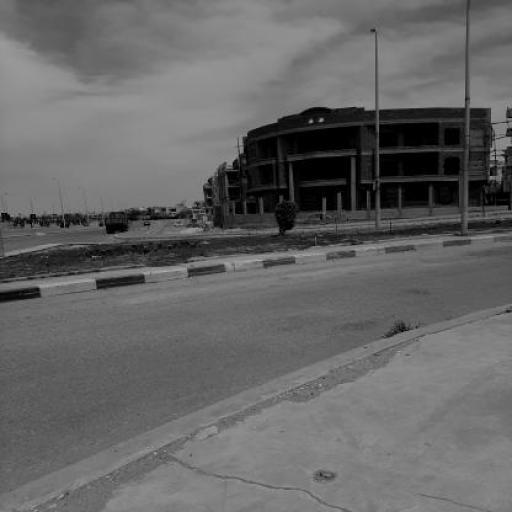street light: (369, 28, 383, 228)
